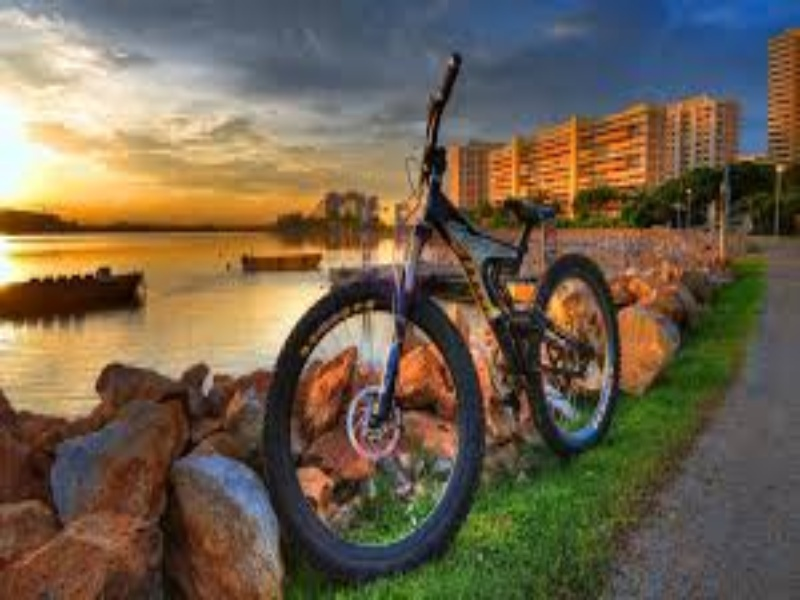bicycle: (217, 37, 658, 590)
